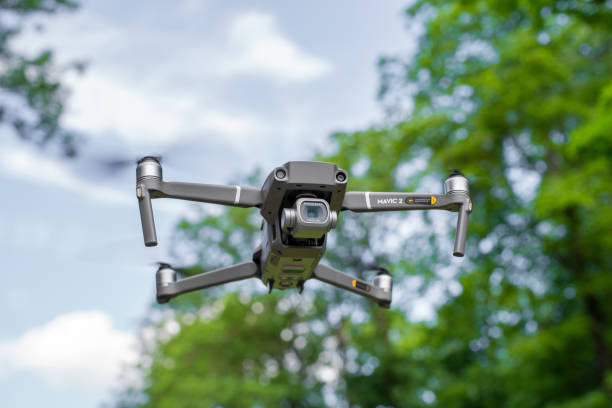Drone: (95, 144, 483, 311)
